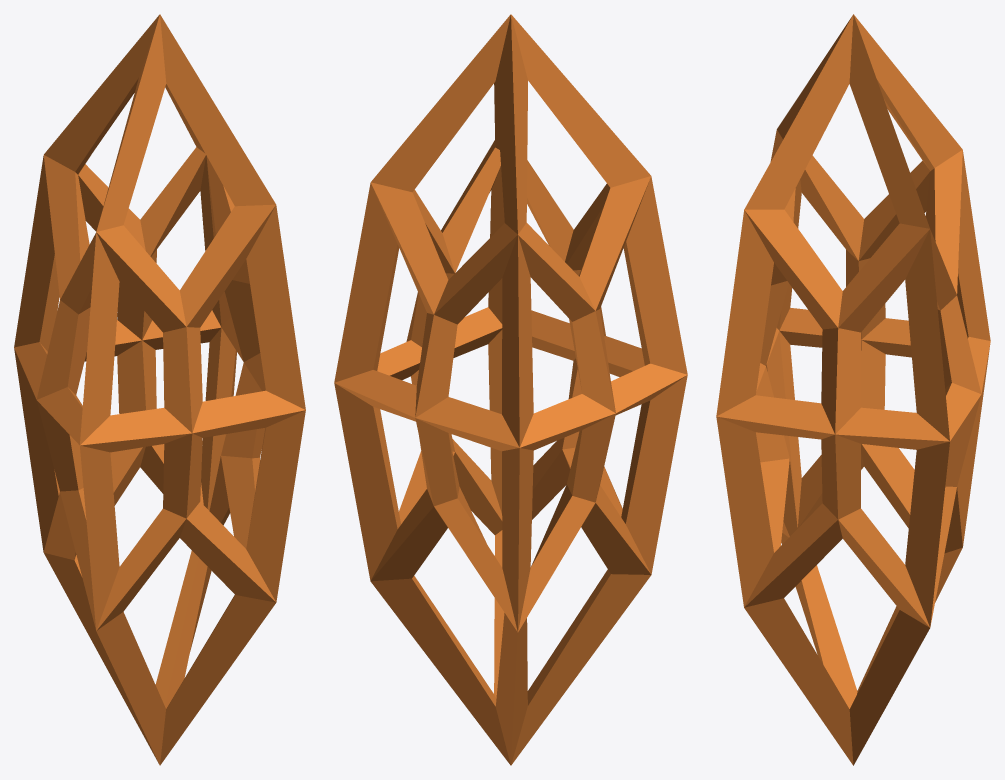
File: AdornoGema2.fbx
The picture shows the model from 3 angles, left to right: view 1: azimuth 30°, elevation 25°; view 2: azimuth 150°, elevation 25°; view 3: azimuth 270°, elevation 25°; orthographic projection.
Visible parts, largest first — view 1: Adornogema2; view 2: Adornogema2; view 3: Adornogema2.
Part boxes in pixels (left/top/right/bottom): Adornogema2: left=14, top=14, right=305, bottom=765; Adornogema2: left=334, top=14, right=687, bottom=765; Adornogema2: left=716, top=14, right=990, bottom=765.
Bounding box in the file's own units: 229 × 640 × 211.
